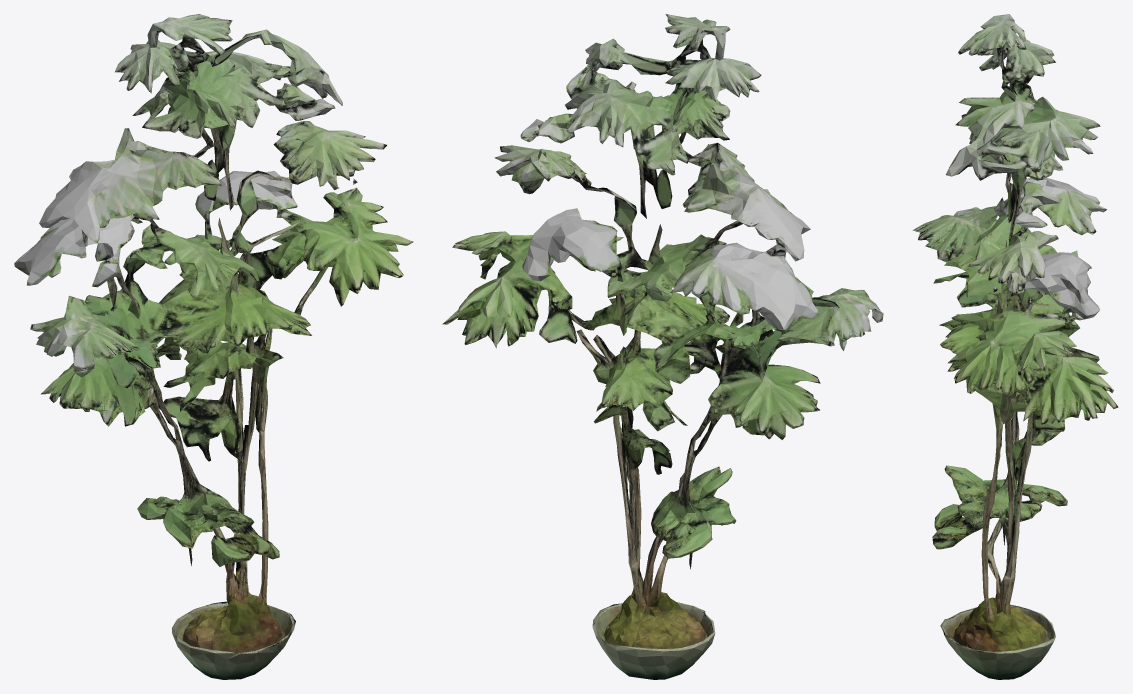
3 renders of one model, left to right at view 1: azimuth 30°, elevation 25°; view 2: azimuth 150°, elevation 25°; view 3: azimuth 270°, elevation 25°, orthographic. The views are drawn at different scales.
Visible parts, largest first — view 1: geometry_0; view 2: geometry_0; view 3: geometry_0.
Part boxes in pixels (left/top/right/bottom): geometry_0: left=14, top=14, right=413, bottom=679; geometry_0: left=442, top=14, right=883, bottom=679; geometry_0: left=912, top=14, right=1118, bottom=679.
Bounding box in the file's own units: 0.6084 × 0.9997 × 0.3018.
1 material, 1 textured.
